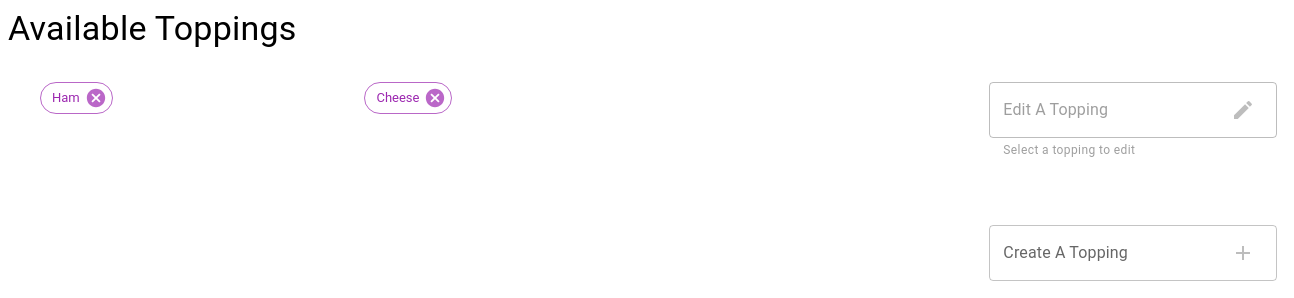
Scenario: Owners › updates the edit input when a topping is selected
Expected: the button with test id "edit-button" is disabled, [1223,90,1263,130]
Step 1. Click the button "Ham" → point(76, 98), box [40,82,113,114]
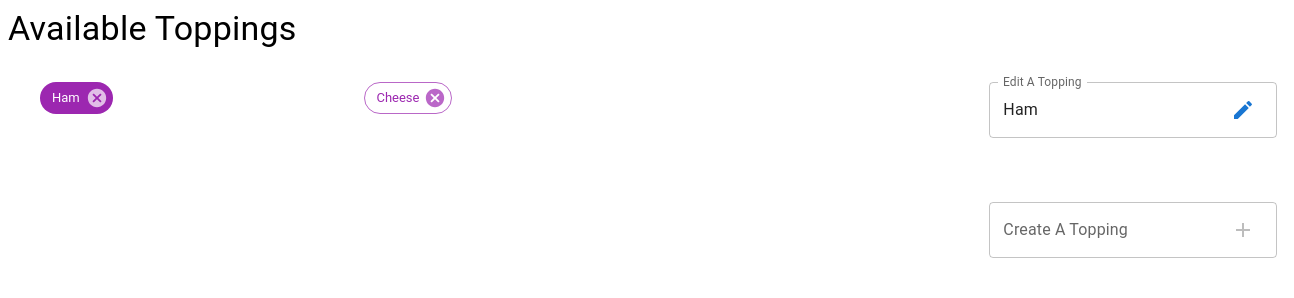
Now the field labelled "Edit A Topping" holds "Ham", box [989,82,1223,138]
Now the button with test id "edit-button" is enabled, box [1223,90,1263,130]
